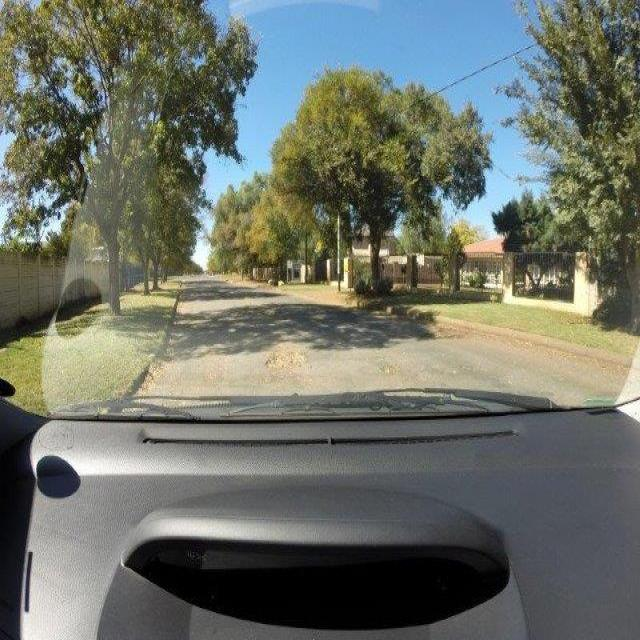lubang: (262, 340, 312, 374), (377, 357, 400, 376)
